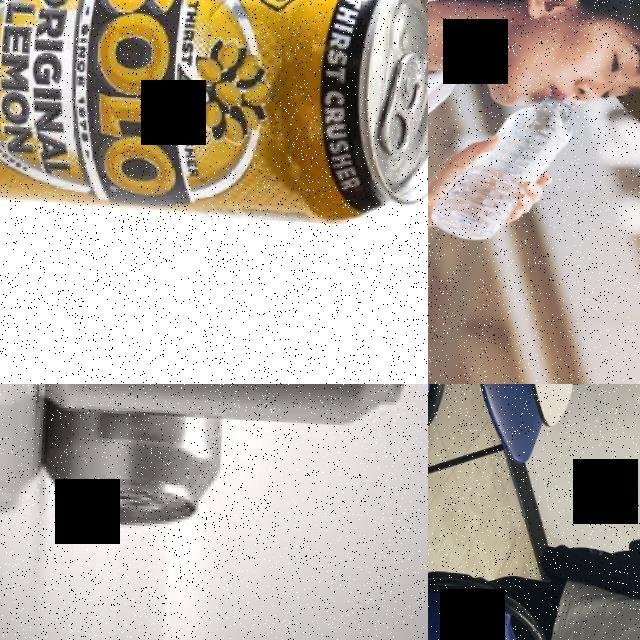bottle: (430, 83, 582, 242)
can: (0, 0, 428, 228), (37, 384, 233, 538), (29, 384, 413, 433)
